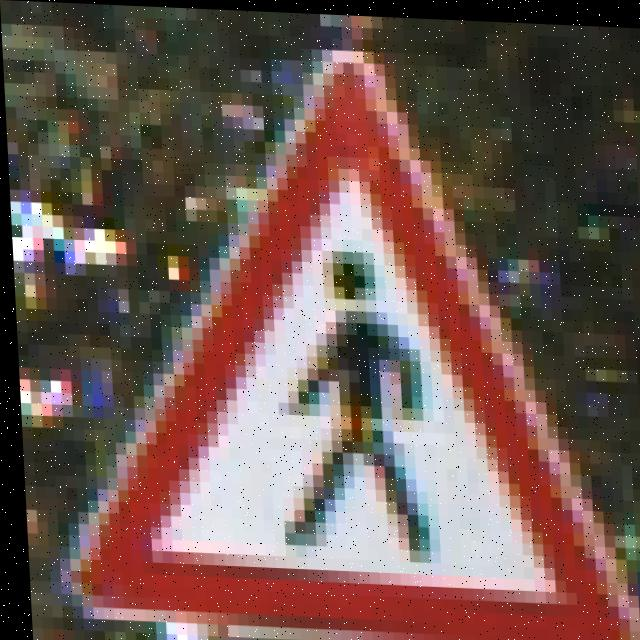crosswalk: (99, 76, 635, 640)
